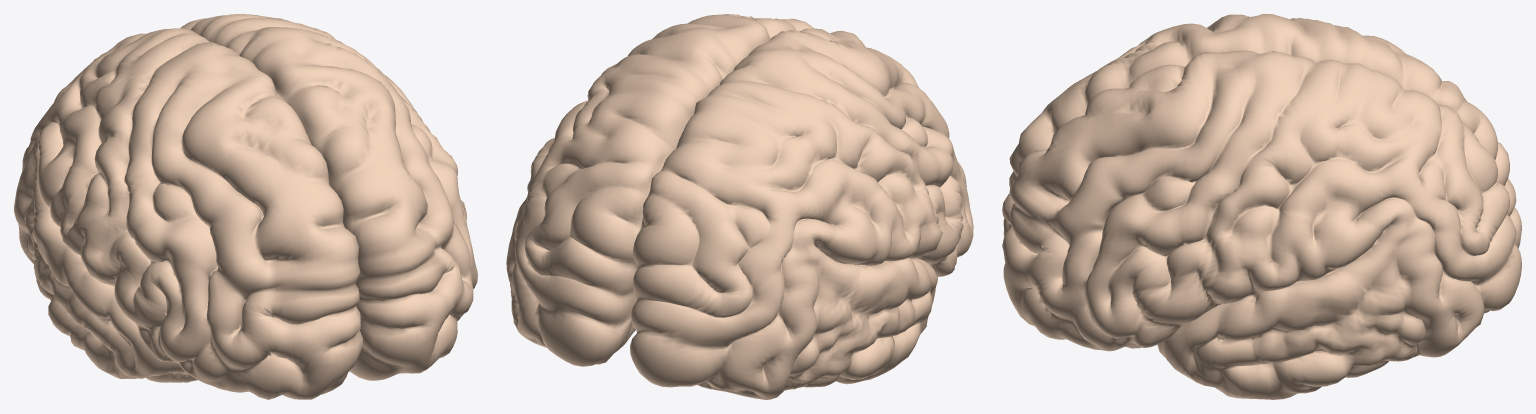
Rendered from 男性_神经系统_神经大脑.fbx.
3 views of the same model, side by side, from view 1: azimuth 30°, elevation 25°; view 2: azimuth 150°, elevation 25°; view 3: azimuth 270°, elevation 25° (orthographic).
Parts seen in each view (by area): view 1: 男性_神经系统_神经大脑; view 2: 男性_神经系统_神经大脑; view 3: 男性_神经系统_神经大脑.
Boxes of the visible parts, x1,y1,x2,y2 form: 男性_神经系统_神经大脑: [14, 14, 477, 399]; 男性_神经系统_神经大脑: [506, 14, 973, 399]; 男性_神经系统_神经大脑: [1002, 14, 1521, 399].
Bounding box in the file's own units: 14.01 × 11.18 × 17.57.
